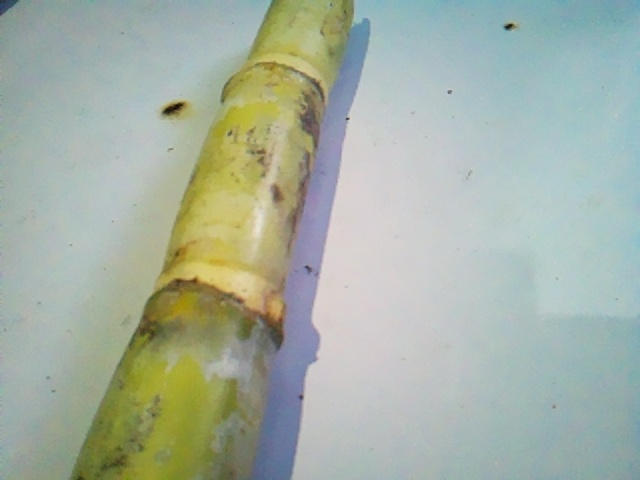Good Sugarcane: (67, 0, 355, 475)
Node: (135, 252, 287, 355), (216, 43, 331, 116)
